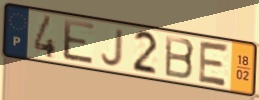2: (132, 29, 161, 79)
4: (32, 14, 57, 61)
B: (163, 33, 197, 82)
E: (196, 39, 231, 89), (62, 17, 96, 67)
J: (99, 27, 126, 69)
